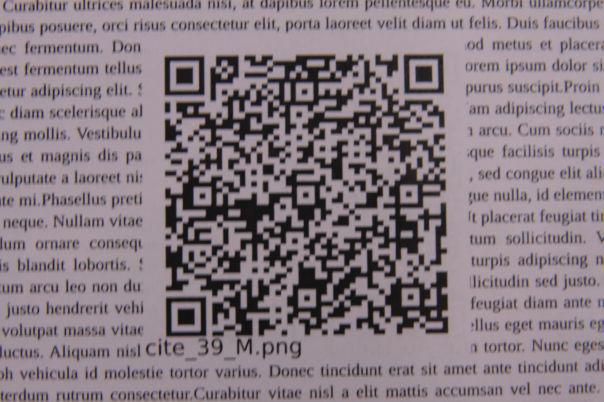Finder pattern: (161, 292, 211, 343), (400, 51, 448, 96), (161, 53, 209, 98)
